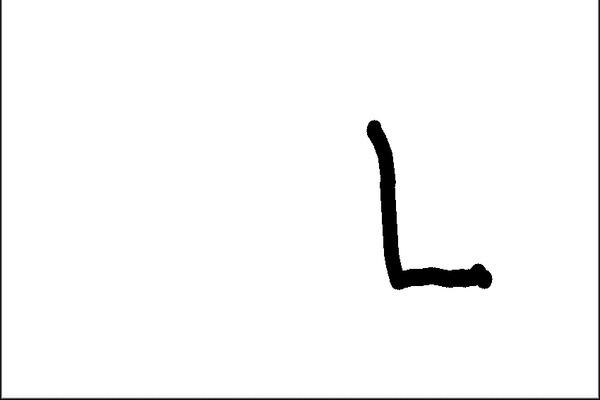L: (359, 111, 498, 294)
